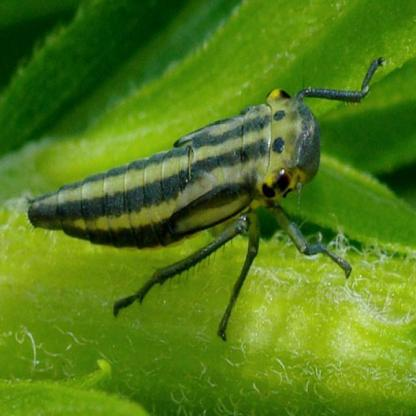Green-Leafhopper: (3, 54, 387, 340)
